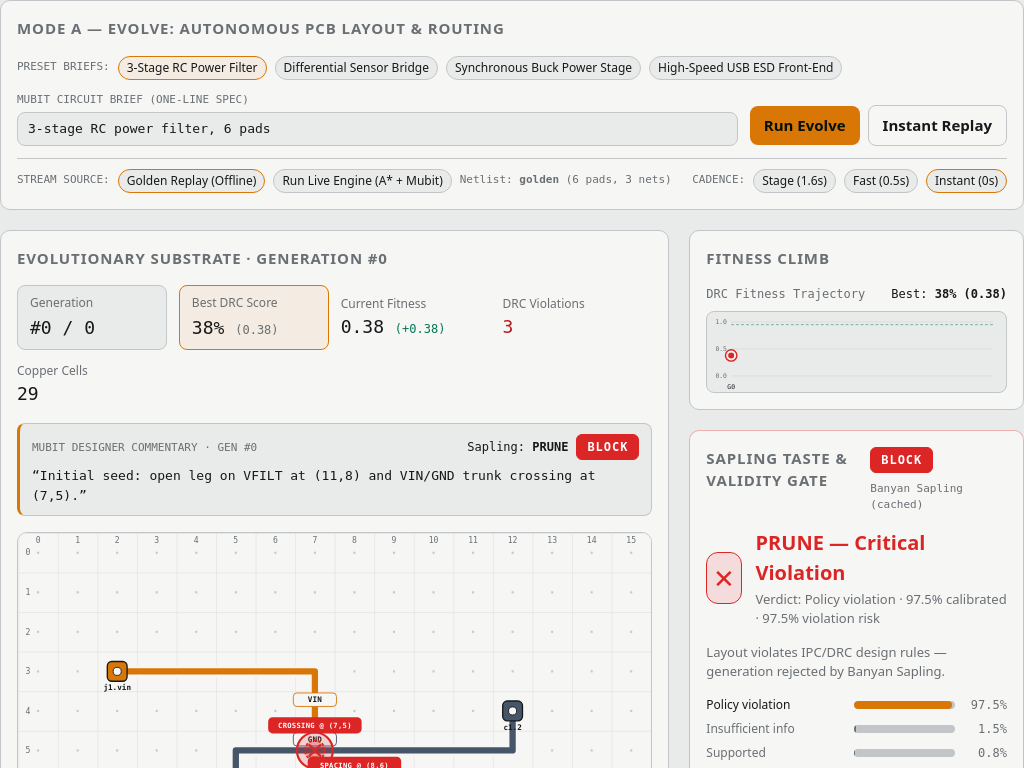
Test: Lane 2 — foundry/ui › EvolveView › streams all 8 golden generations from 0.38 to 0.98 and flips Sapling to SURVIVE / SHIP
Expected: the text with test id "evolve-gen-counter" shows "#0", [30,317,95,338]
Expected: the element with test id "evolve-best-score" shows "38%", [192,317,279,338]
Click the button "Run Evolve": coordinates (805, 125) [750,106,860,144]
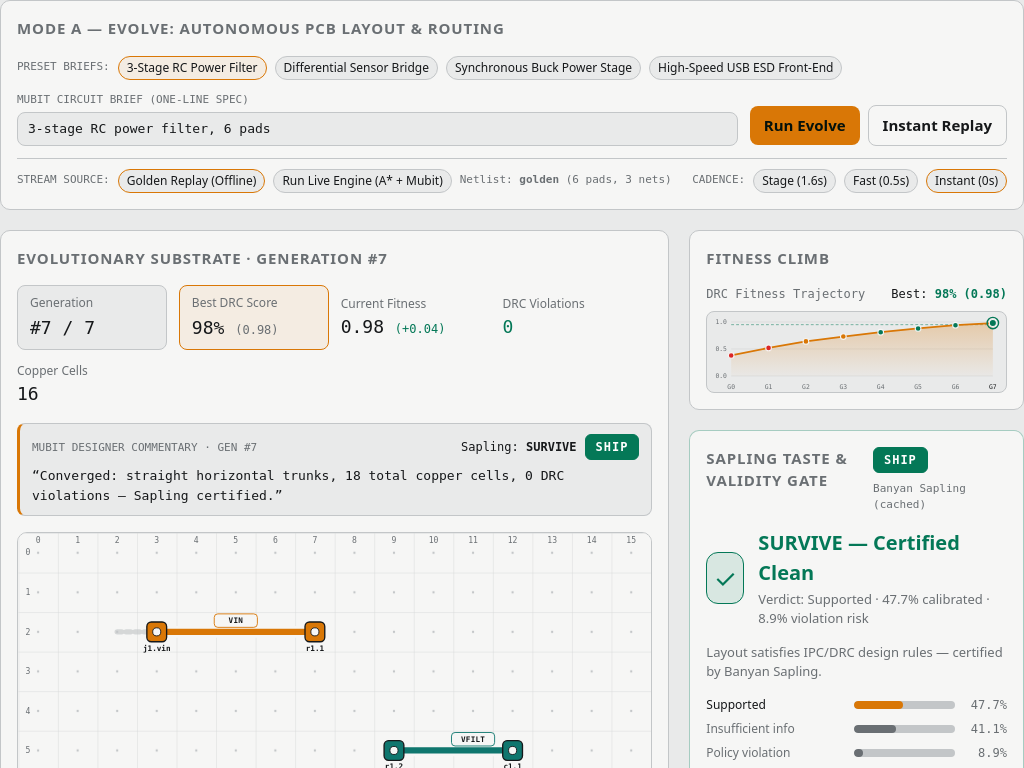
Now the text with test id "evolve-gen-counter" reads "#7 / 7", box [30,317,95,338]
Now the element with test id "evolve-best-score" shows "98%", box [192,317,279,338]
Now the text with test id "evolve-active-note" shows "Converged: straight horizontal trunks", box [32,468,564,502]
